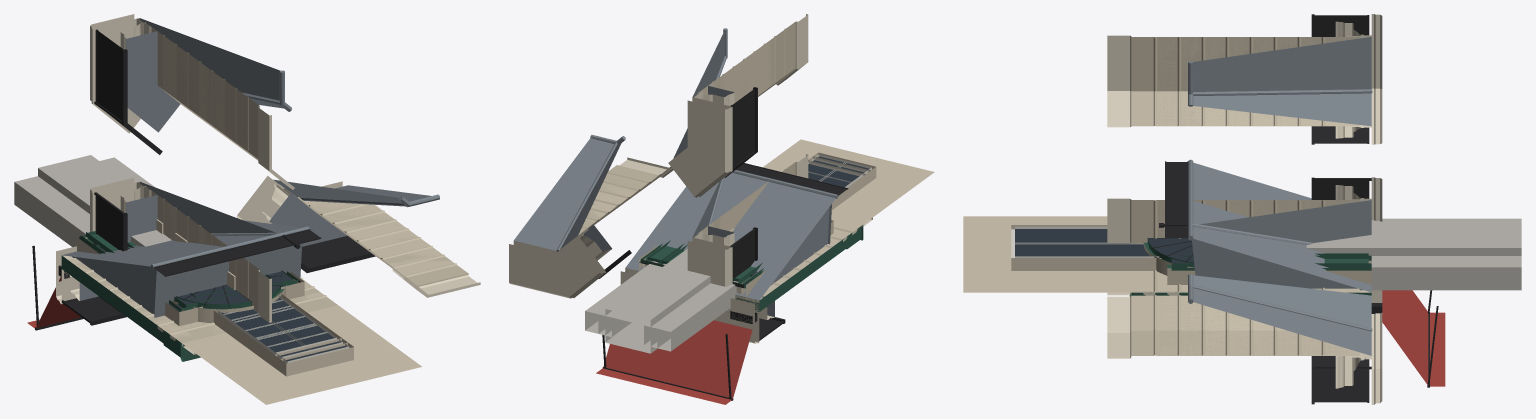
The model's file is kit.glb.
The picture shows the model from 3 angles, left to right: view 1: azimuth 30°, elevation 25°; view 2: azimuth 150°, elevation 25°; view 3: azimuth 270°, elevation 25°; orthographic projection. The views are drawn at different scales.
Visible parts, largest first — view 1: NS_tall.window.001, G_pc.frame.001, NA_tall.window.001, balcony.pc.001, R_mansard.dormer_atelier.001, R_mansard_pc.frame.001, R_cornice_pc.frame.001, A_pc.frame.001, R_chimney.party.001, R_chimney.stack6.001, G_corner.pier.001, G_bay.door_arched.001 (+15 smaller); view 2: balcony.pc.001, awning.open.001, R_mansard_pc.frame.001, R_mansard.dormer_oeil.001, R_chimney.party.001, G_pc.frame.001, NS_tall.window.001, R_chimney.stack6.001, NA_tall.window.001, R_mansard.dormer_atelier.001, balcony.corner.001, SS_tall.window.001 (+20 smaller); view 3: R_mansard_pc.frame.001, G_pc.frame.001, NA_tall.window.001, NS_tall.window.001, A_pc.frame.001, balcony.pc.001, R_chimney.stack6.001, R_chimney.party.001, R_mansard_corner.hip.001, N_pc.frame.001, awning.open.001, R_mansard.dormer_atelier.001 (+13 smaller).
Part boxes in pixels (x1,y1,x2,y2): NS_tall.window.001: [72, 262, 421, 404]; G_pc.frame.001: [138, 18, 480, 297]; NA_tall.window.001: [69, 258, 408, 395]; balcony.pc.001: [90, 14, 375, 272]; R_mansard.dormer_atelier.001: [62, 220, 309, 317]; R_mansard_pc.frame.001: [139, 18, 439, 207]; R_cornice_pc.frame.001: [120, 19, 347, 246]; A_pc.frame.001: [136, 18, 430, 257]; R_chimney.party.001: [14, 157, 154, 247]; R_chimney.stack6.001: [38, 155, 171, 246]; G_corner.pier.001: [138, 182, 299, 322]; G_bay.door_arched.001: [63, 231, 337, 354]; balcony.pc.001: [509, 87, 757, 298]; awning.open.001: [596, 311, 757, 404]; R_mansard_pc.frame.001: [514, 28, 727, 251]; R_mansard.dormer_oeil.001: [626, 173, 835, 299]; R_chimney.party.001: [585, 261, 738, 351]; G_pc.frame.001: [515, 14, 808, 251]; NS_tall.window.001: [768, 139, 934, 293]; R_chimney.stack6.001: [605, 249, 710, 353]; NA_tall.window.001: [763, 147, 923, 294]; R_mansard.dormer_atelier.001: [626, 170, 838, 300]; balcony.corner.001: [687, 227, 757, 322]; SS_tall.window.001: [764, 147, 922, 293]; R_mansard_pc.frame.001: [1188, 37, 1372, 355]; G_pc.frame.001: [1107, 35, 1371, 358]; NA_tall.window.001: [987, 216, 1359, 295]; NS_tall.window.001: [963, 216, 1357, 292]; A_pc.frame.001: [1203, 35, 1371, 359]; balcony.pc.001: [1311, 14, 1382, 404]; R_chimney.stack6.001: [1306, 222, 1521, 255]; R_chimney.party.001: [1371, 218, 1521, 290]; R_mansard_corner.hip.001: [1192, 200, 1371, 253]; N_pc.frame.001: [1155, 37, 1359, 355]; awning.open.001: [1371, 290, 1445, 387]; R_mansard.dormer_atelier.001: [1188, 159, 1363, 290].
Size of the model in its own units: 5.5 by 5.77 by 9.3.
